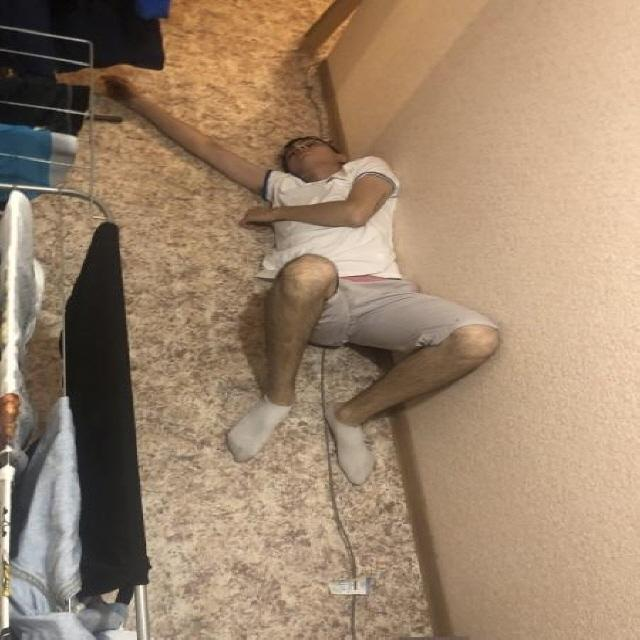Fall: (107, 77, 500, 486)
